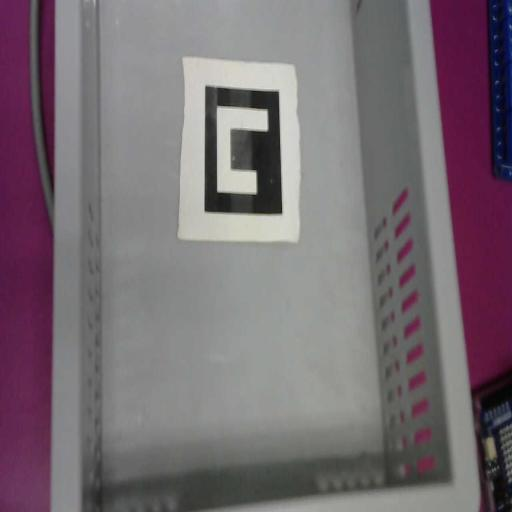QR: (176, 55, 302, 244)
